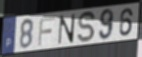6: (119, 7, 134, 38)
8: (19, 18, 35, 50)
9: (98, 7, 116, 42)
F: (37, 16, 56, 48)
N: (57, 12, 77, 45)
S: (77, 10, 96, 43)
